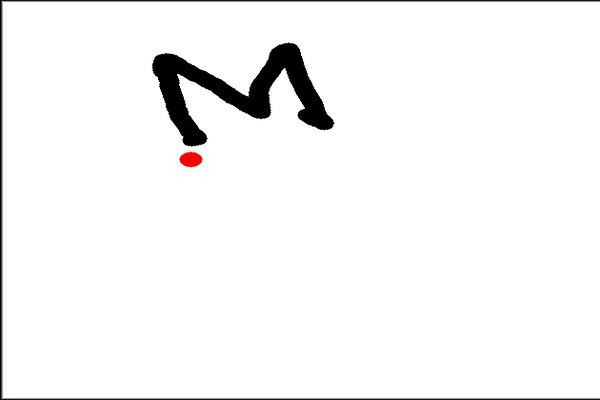M: (150, 38, 334, 145)
